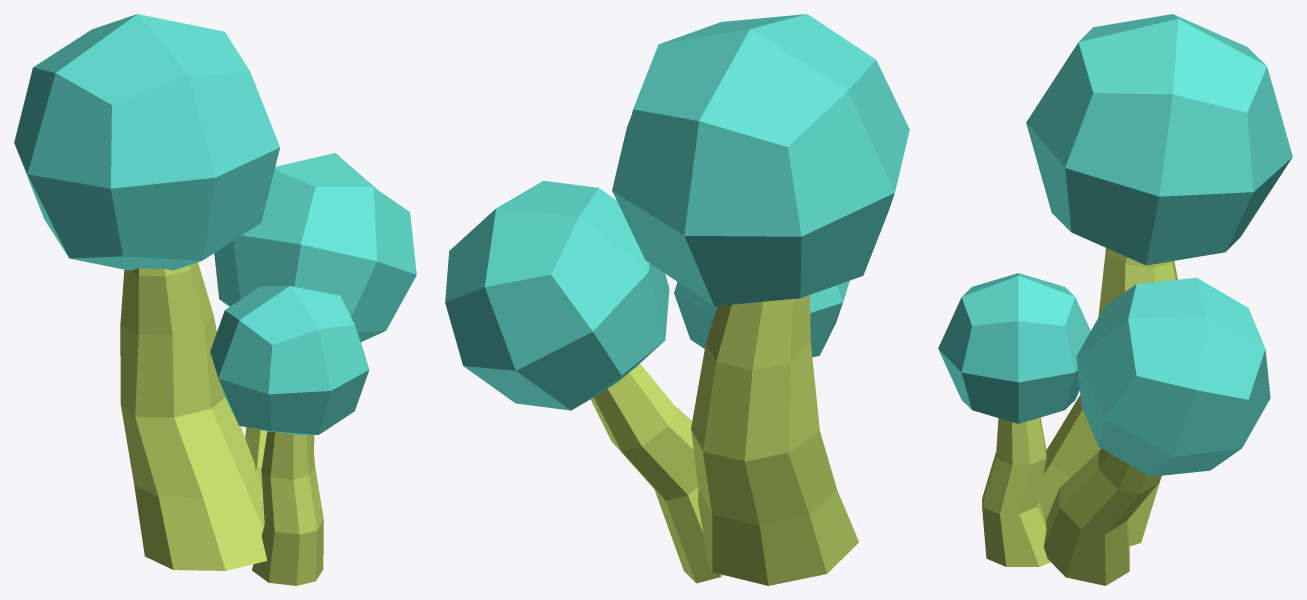
The model's file is tiny spores.fbx.
3 renders of one model, left to right at view 1: azimuth 30°, elevation 25°; view 2: azimuth 150°, elevation 25°; view 3: azimuth 270°, elevation 25°, orthographic. The views are drawn at different scales.
Parts seen in each view (by area): view 1: Cube.003; view 2: Cube.003; view 3: Cube.003.
Boxes of the visible parts, bbox=[...] form: Cube.003: bbox=[14, 14, 416, 585]; Cube.003: bbox=[445, 14, 909, 585]; Cube.003: bbox=[938, 14, 1292, 585].
Bounding box in the file's own units: 2537 × 3420 × 2110.
